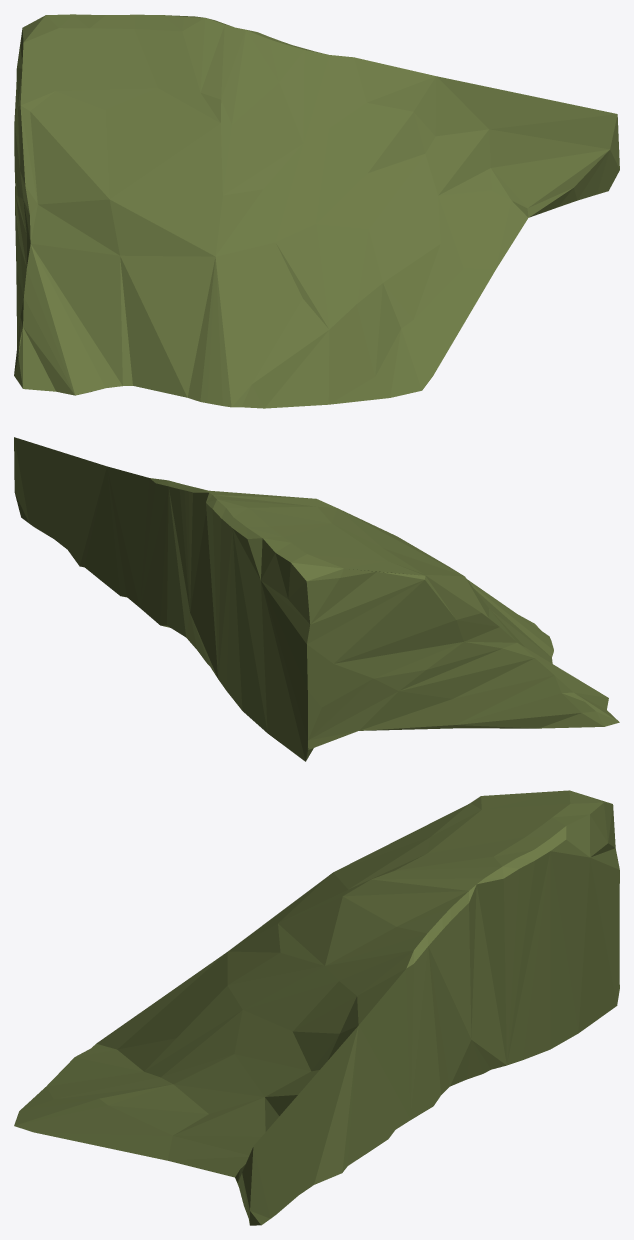
Rendered from ground_33.fbx.
The picture shows the model from 3 angles, top to bottom: view 1: azimuth 30°, elevation 25°; view 2: azimuth 150°, elevation 25°; view 3: azimuth 270°, elevation 25°; orthographic projection. The views are drawn at different scales.
Parts seen in each view (by area): view 1: ground_33; view 2: ground_33; view 3: ground_33.
Boxes of the visible parts, box(x1,y1,x2,y2) form: ground_33: box(14, 14, 619, 408); ground_33: box(14, 437, 619, 761); ground_33: box(14, 790, 619, 1225).
Size of the model in its own units: 14.01 by 5.09 by 10.68.
